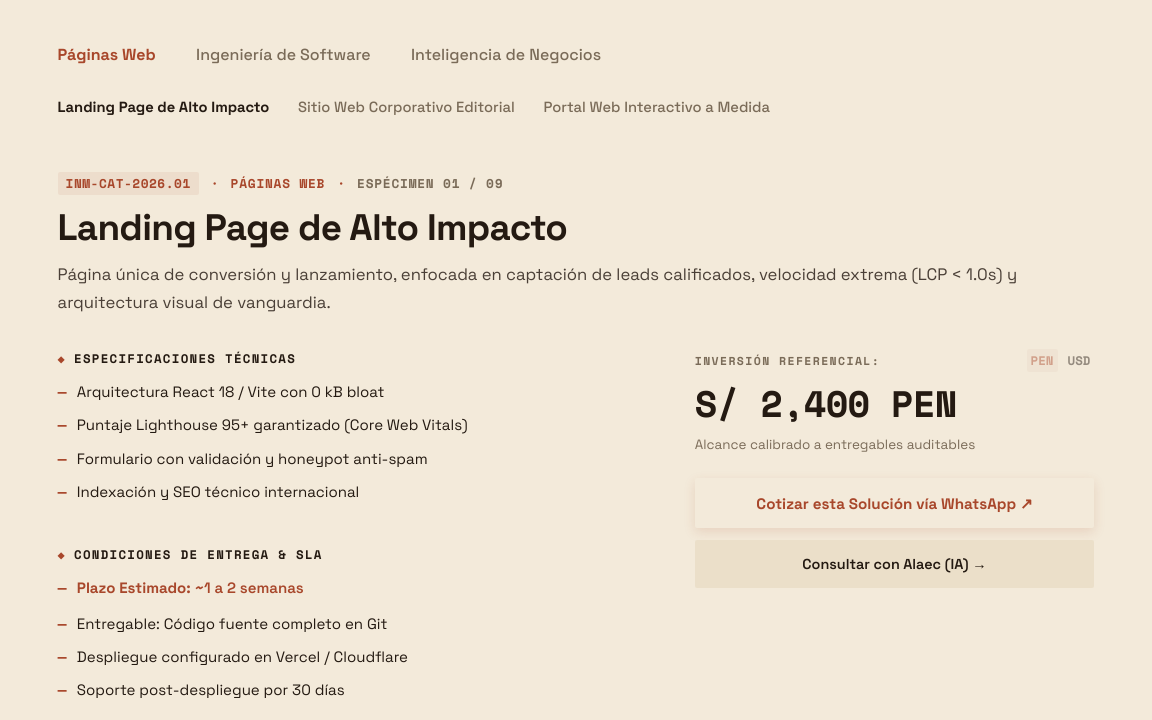
QuickEstimator Component (Cédula Curatorial) › switches currency between PEN and USD
(page scrolled)
Expected: the text "S/ 2,400 PEN" is shown, [695,376,957,430]
Toggle currency to USD
Click the button "USD" at [1079, 361], box [1064,349,1094,372]
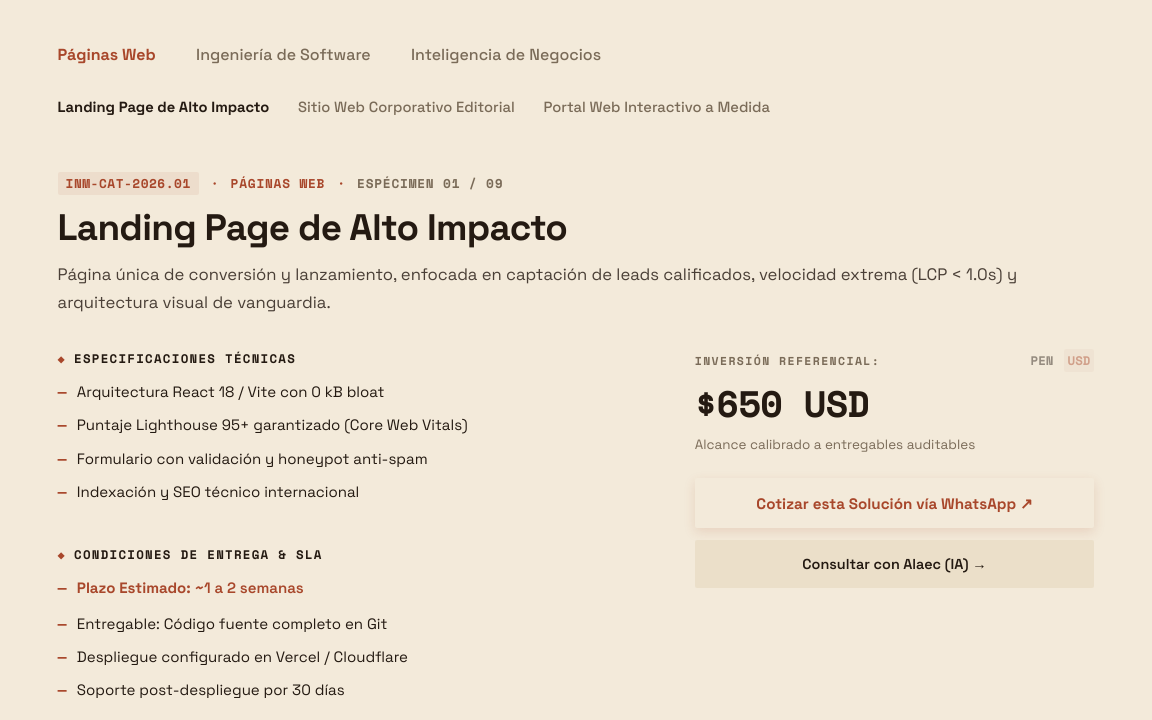
Now the text "$650 USD" is shown, box [695,376,869,430]
